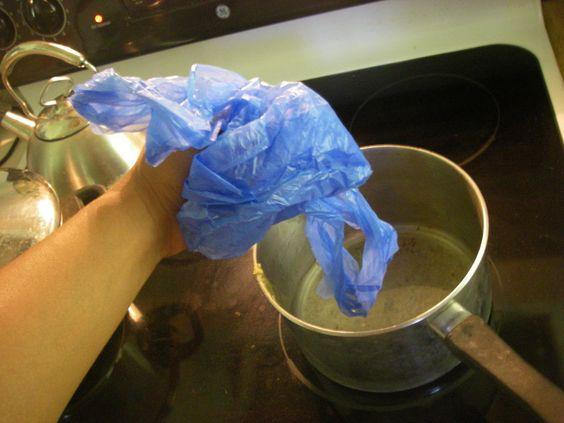LDPE: (159, 66, 371, 257)
